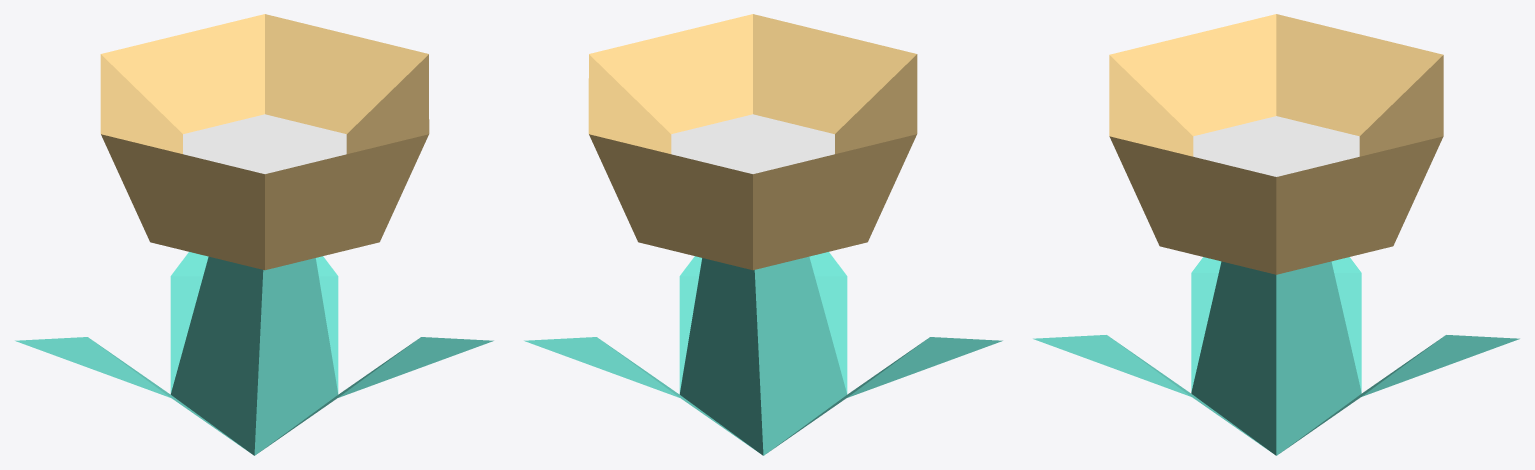
File: flower_yellowC.glb
3 renders of one model, left to right at view 1: azimuth 30°, elevation 25°; view 2: azimuth 150°, elevation 25°; view 3: azimuth 270°, elevation 25°, orthographic.
Visible parts, largest first — view 1: flower_yellowC; view 2: flower_yellowC; view 3: flower_yellowC.
Part boxes in pixels (box(x1,y1,x2,y2)): flower_yellowC: box(15, 14, 493, 455); flower_yellowC: box(524, 14, 1002, 455); flower_yellowC: box(1033, 14, 1519, 455).
Size of the model in its own units: 0.1806 by 0.1325 by 0.1811.
